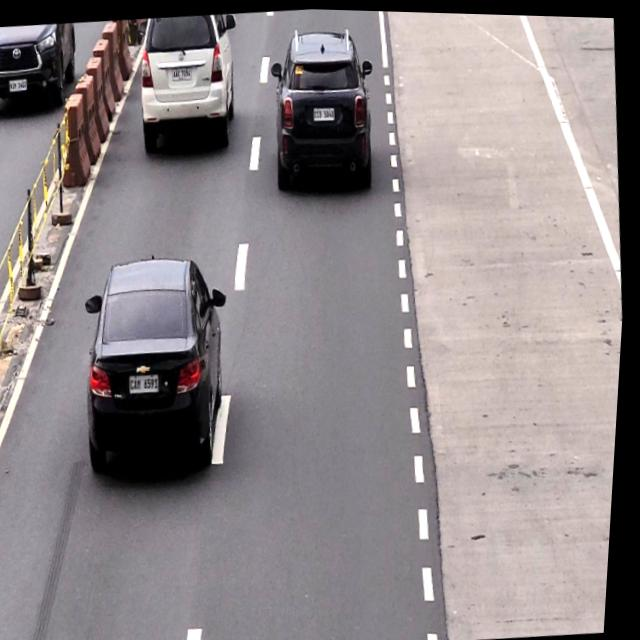Car: (81, 248, 242, 471), (266, 24, 384, 189), (133, 10, 238, 155)
License-Plate: (130, 371, 165, 393), (313, 102, 338, 124), (170, 65, 194, 82)
